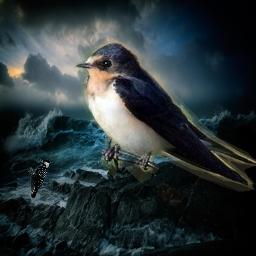Swallow: (74, 39, 256, 192)
Woodpecker: (28, 158, 51, 198)
